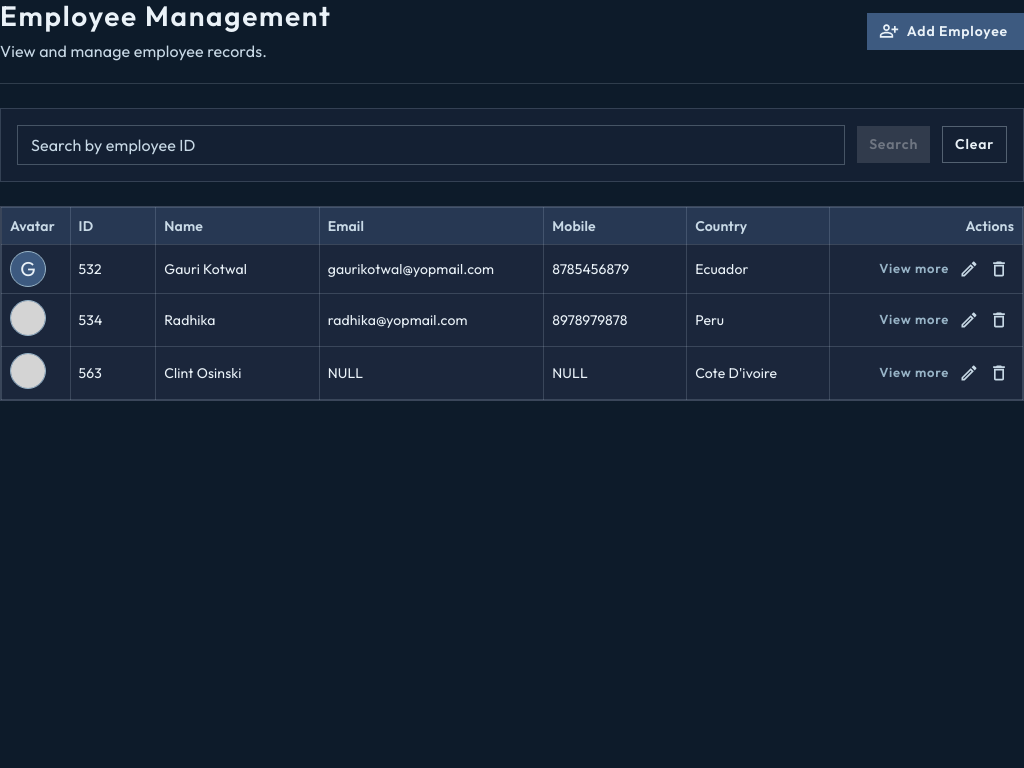
Test: EmployeeManagementContainer API errors › keeps the edit form open when PUT fails
Click the button named "edit gauri kotwal": (969, 269) [954,254,984,284]
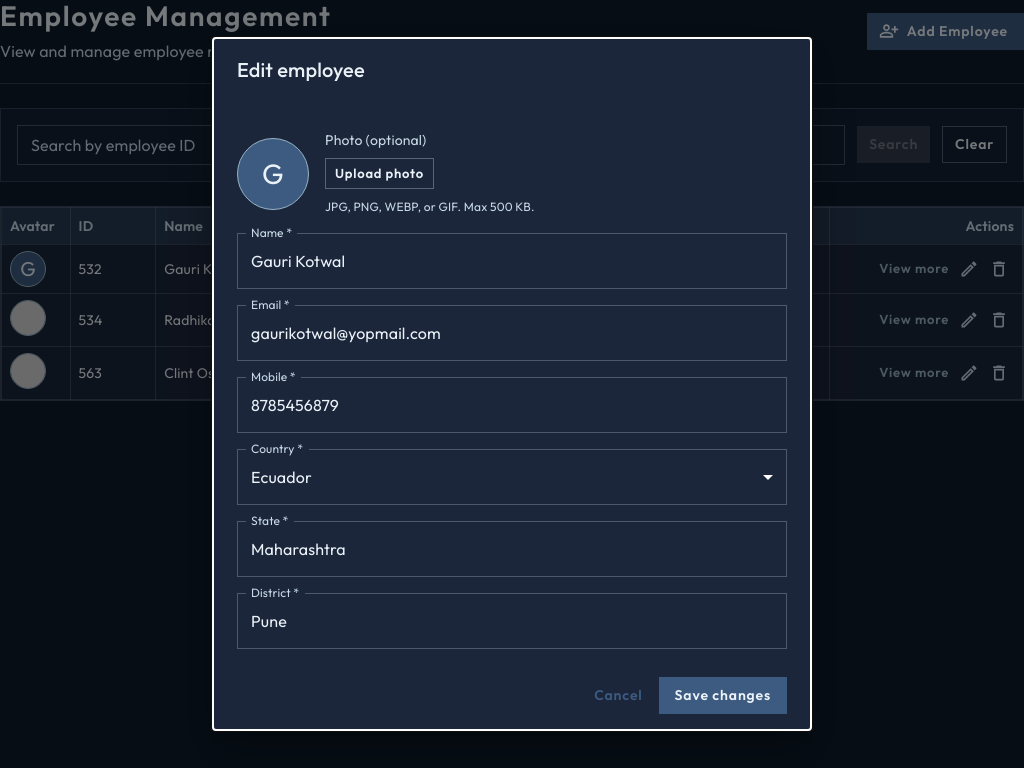
Click the button "Save changes": (723, 695) [659,677,787,714]
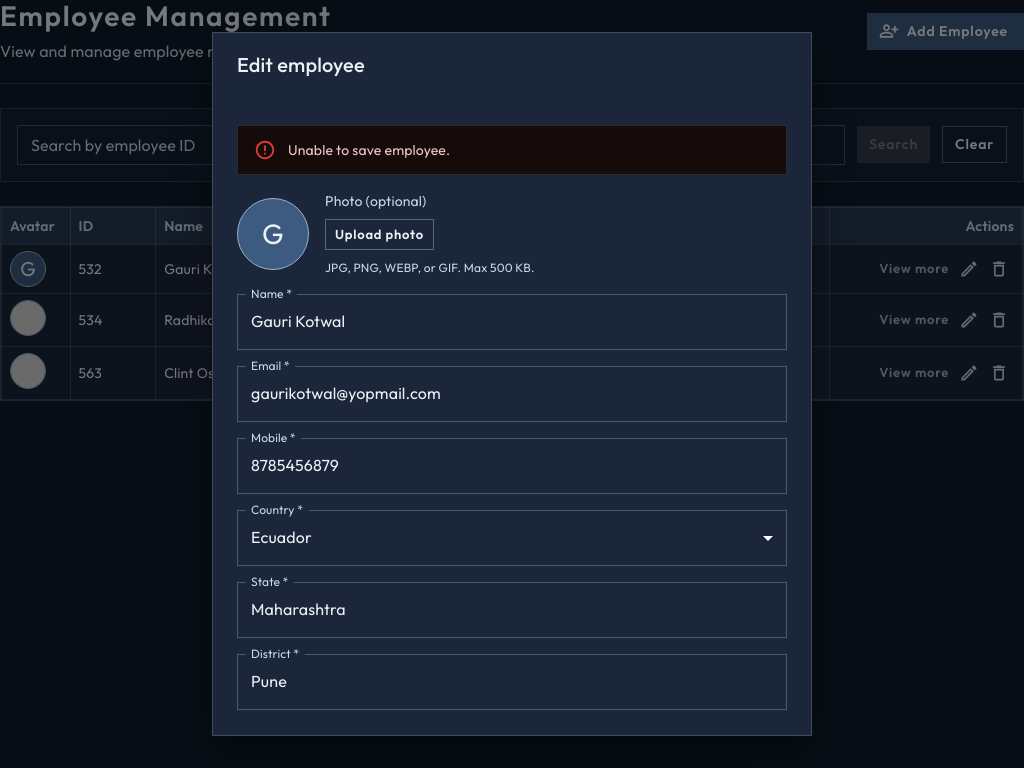
expect the heading "Edit employee" is shown: met, box [237,52,365,77]
expect the text "Unable to save employee." is shown: met, box [288,141,450,159]
